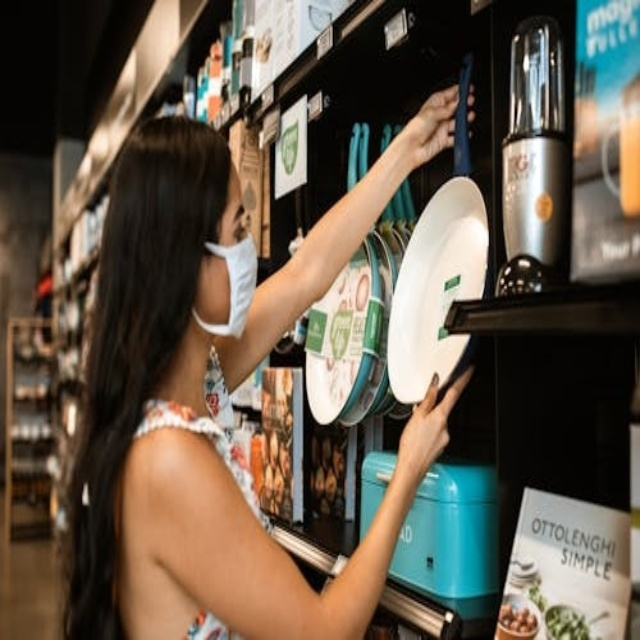Mascara: (190, 229, 259, 338)
Sin_gafas: (202, 192, 255, 250)
Sin_guantes: (380, 350, 480, 494), (393, 69, 480, 169)
